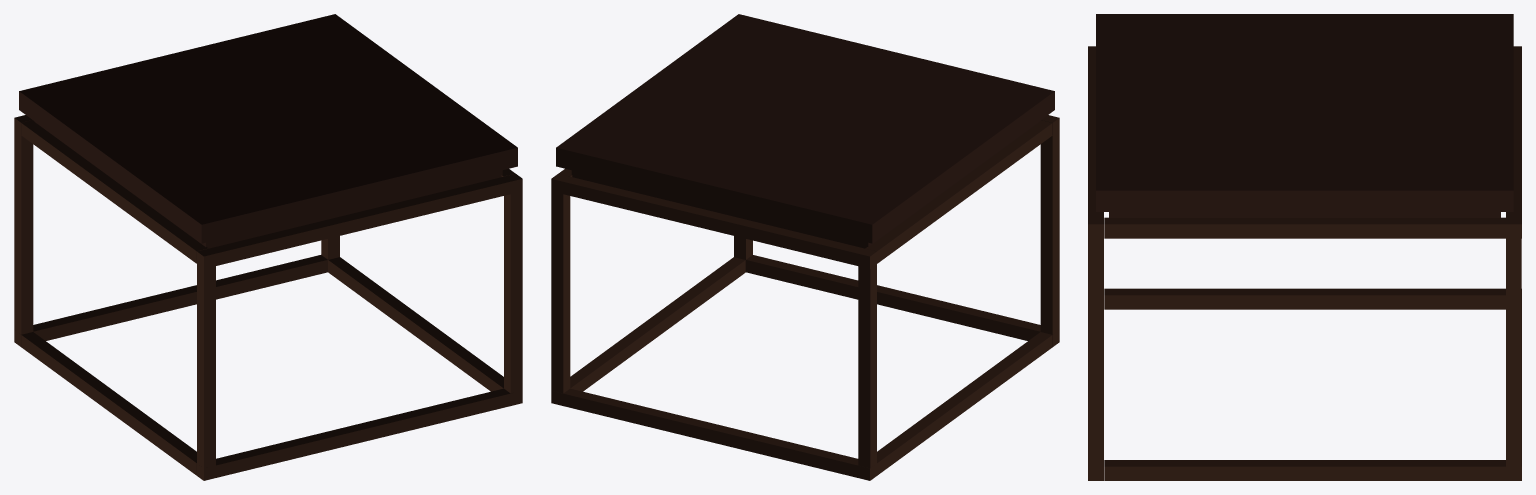
Rendered from Side Table 2.fbx.
3 views of the same model, side by side, from view 1: azimuth 30°, elevation 25°; view 2: azimuth 150°, elevation 25°; view 3: azimuth 270°, elevation 25° (orthographic). The views are drawn at different scales.
Parts seen in each view (by area): view 1: Node 0; view 2: Node 0; view 3: Node 0.
Boxes of the visible parts, box(x1,y1,x2,y2) form: Node 0: box(14, 14, 522, 480); Node 0: box(551, 14, 1059, 480); Node 0: box(1088, 14, 1521, 480).
Size of the model in its own units: 0.6536 by 0.4816 by 0.6346.
